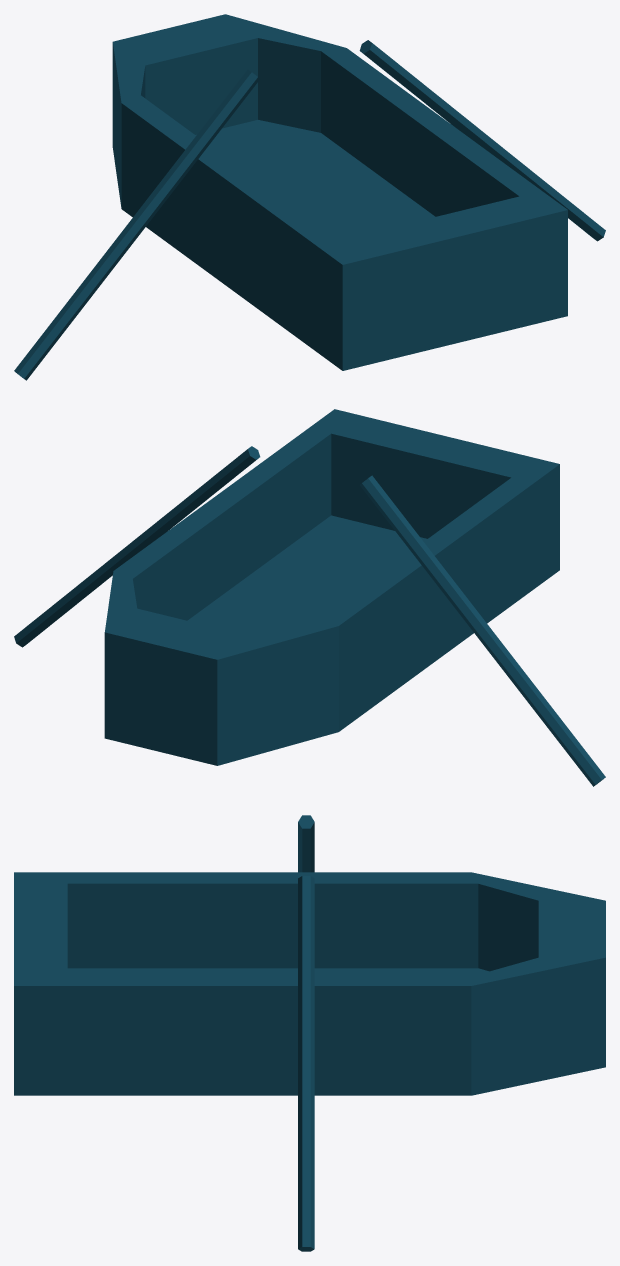
The model's file is ghost_row_boat.fbx.
3 views of the same model, one above another, from view 1: azimuth 30°, elevation 25°; view 2: azimuth 150°, elevation 25°; view 3: azimuth 270°, elevation 25° (orthographic). The views are drawn at different scales.
Parts seen in each view (by area): view 1: Ghost_Ship; view 2: Ghost_Ship; view 3: Ghost_Ship.
Boxes of the visible parts, x1,y1,x2,y2 form: Ghost_Ship: [14, 14, 605, 380]; Ghost_Ship: [14, 409, 605, 786]; Ghost_Ship: [14, 815, 605, 1251].
Bounding box in the file's own units: 313 × 129 × 264.
